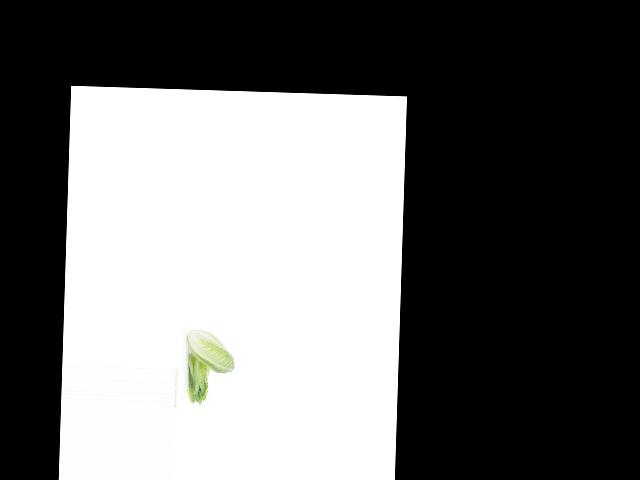lettuce: (180, 352, 215, 404)
